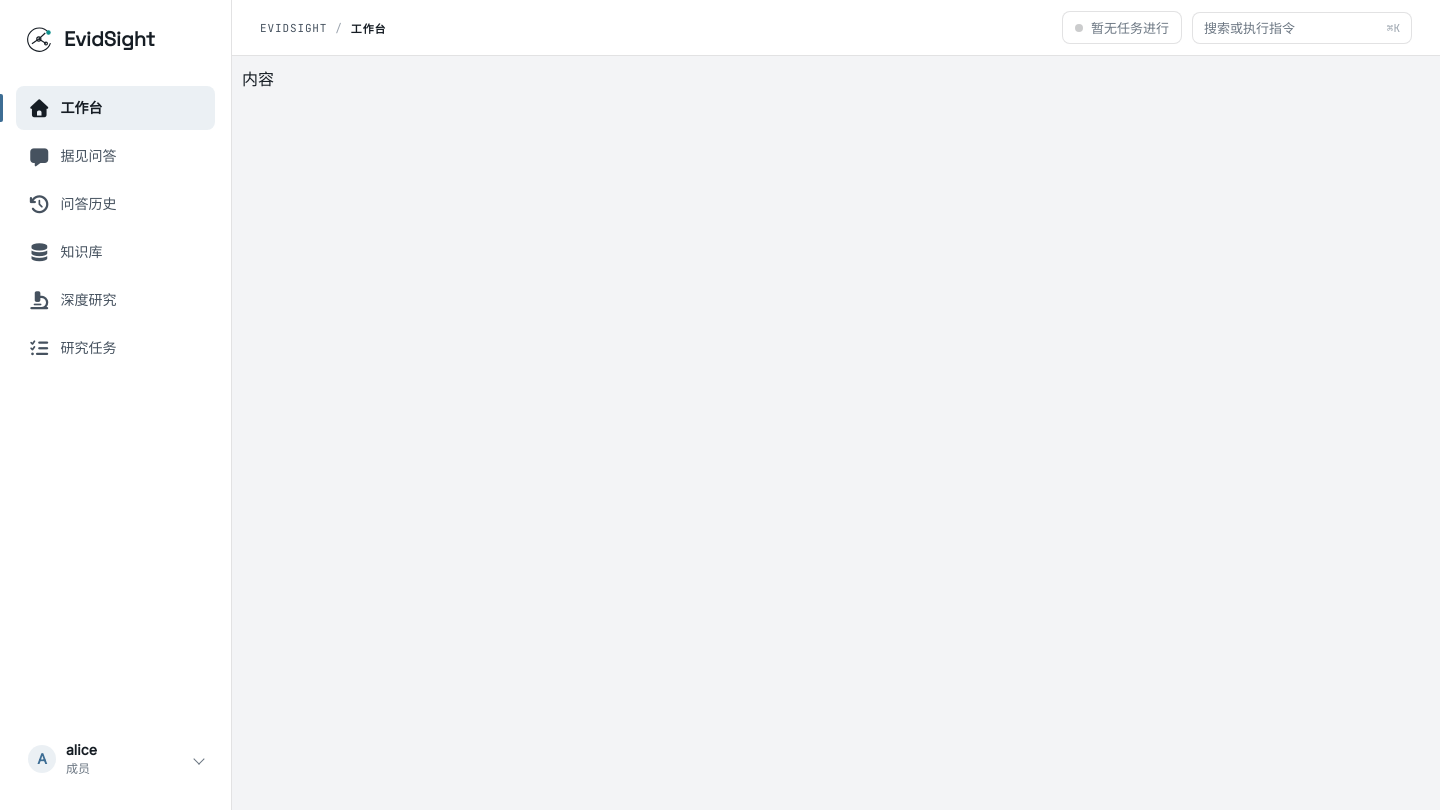
统一应用壳层 › 退出登录先弹具名确认框，确认后清除会话并弹「已退出登录」成功反馈
Step 1. Click the button "A alice 成员" → {"x": 116, "y": 758}, box [16,731,215,786]
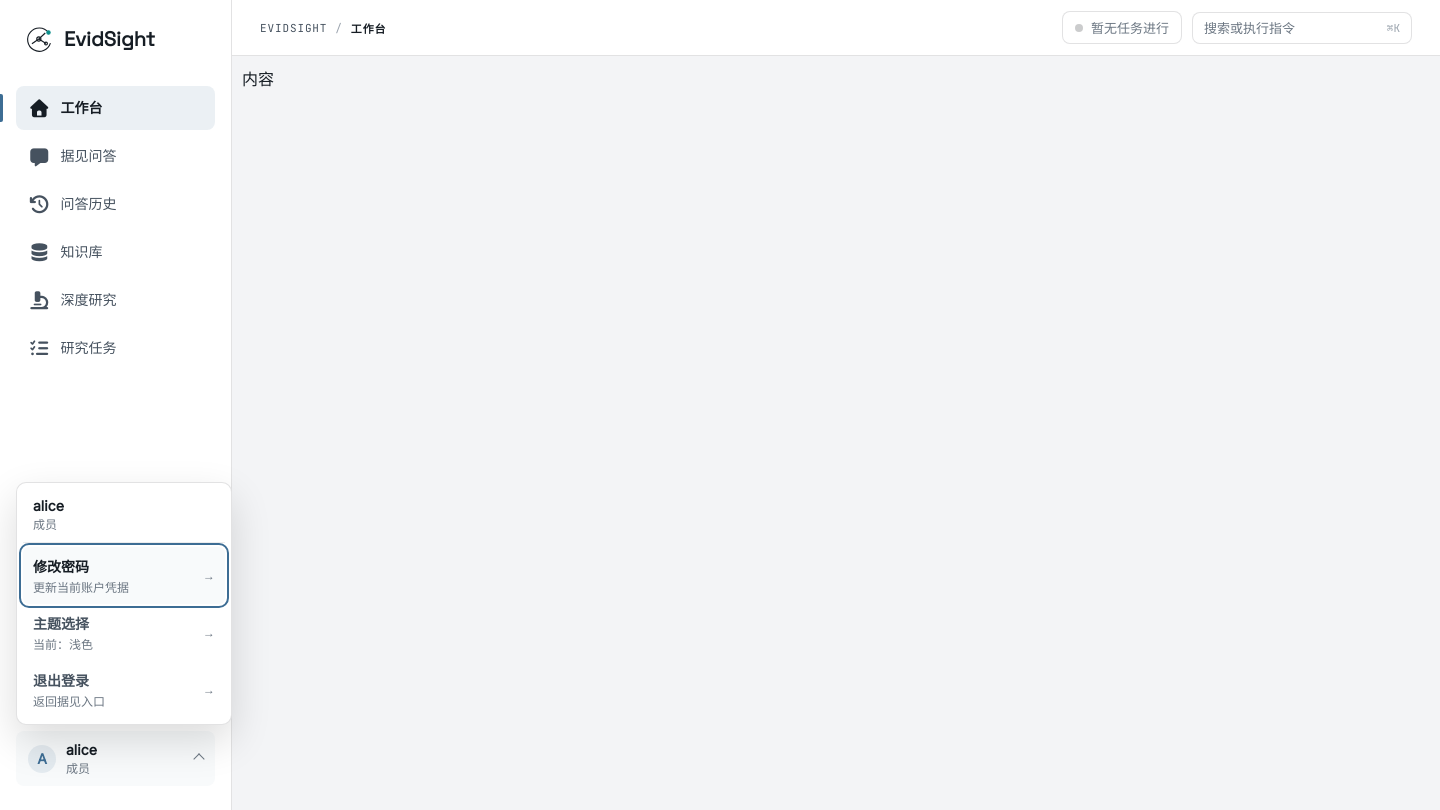
Step 2. Click the menu item "退出登录 返回据见入口 →" → {"x": 124, "y": 690}, box [23,661,225,718]
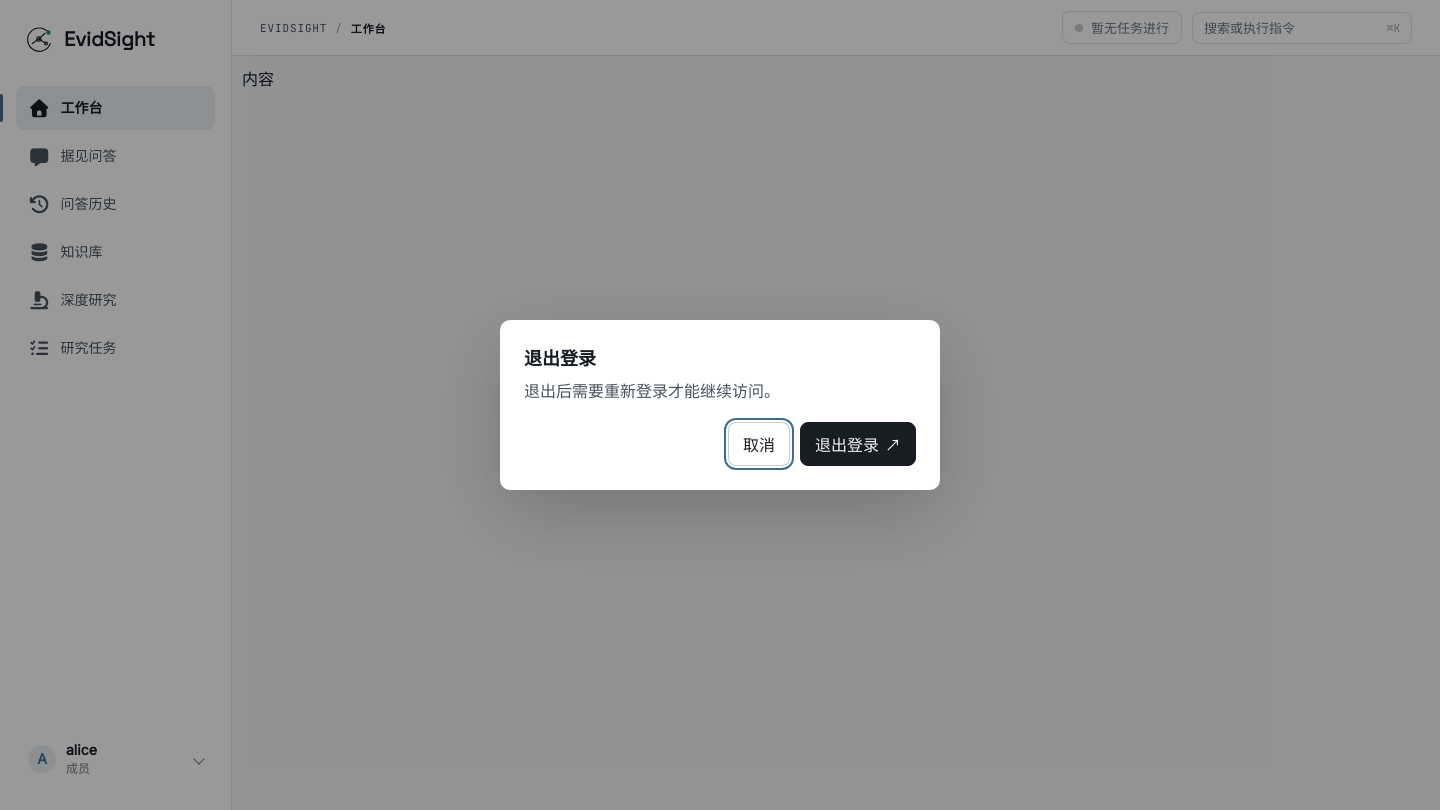
Result: the dialog "退出登录" is shown at [500,320,940,490]
Step 3. Click the button "退出登录" → {"x": 858, "y": 444}, box [800,422,916,466]
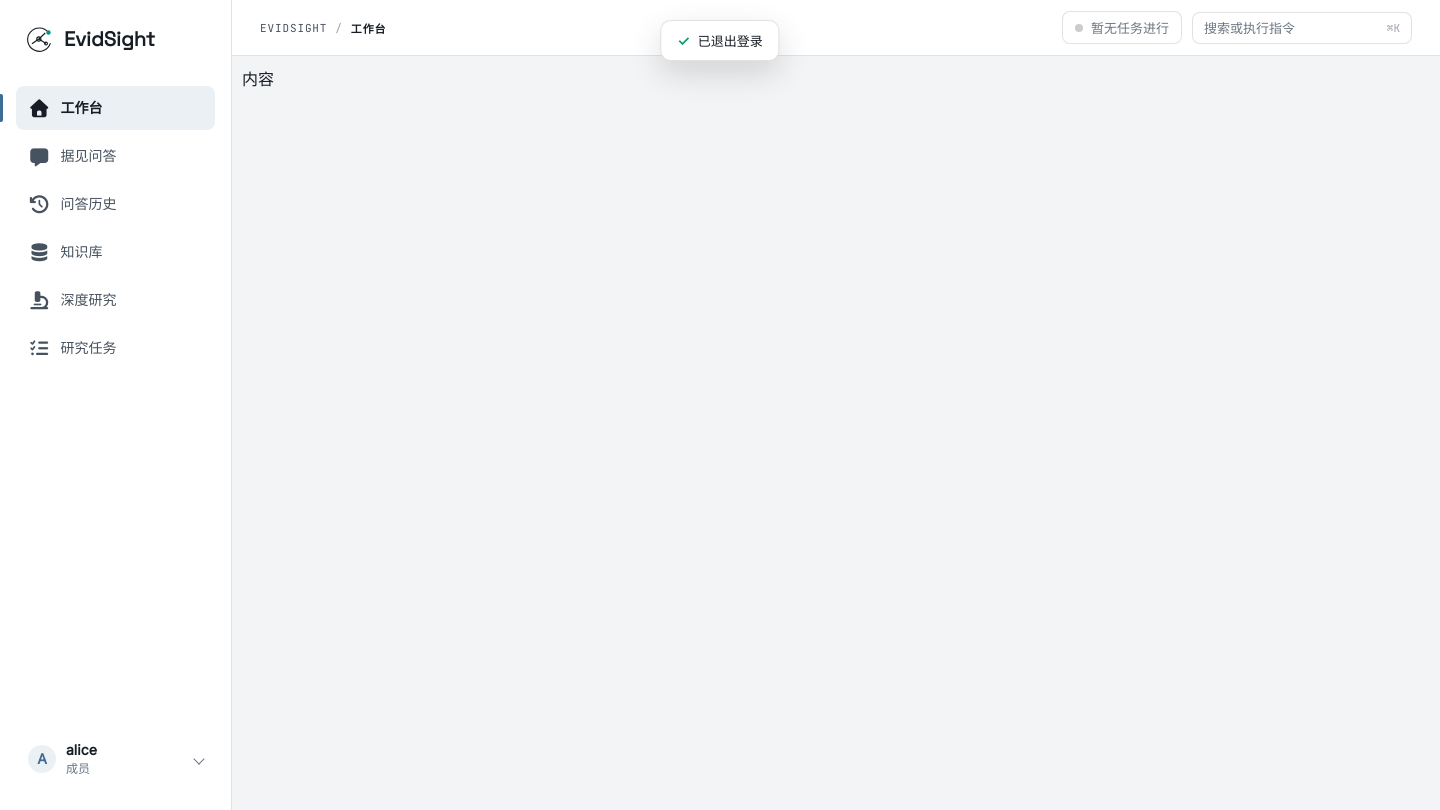
Result: the message shows "已退出登录" at [698,33,763,49]
